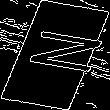N_E: (9, 29, 101, 81)
